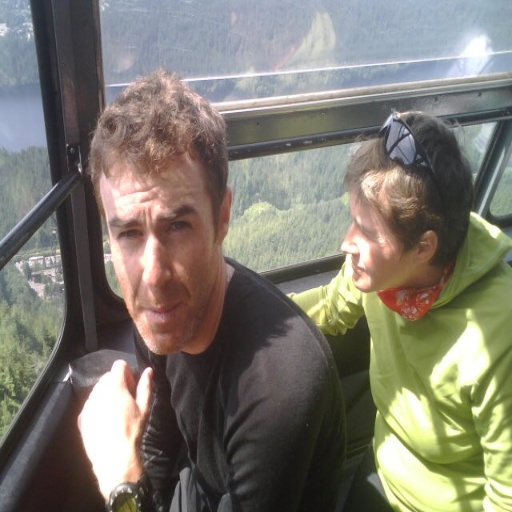hand: (68, 348, 158, 505)
